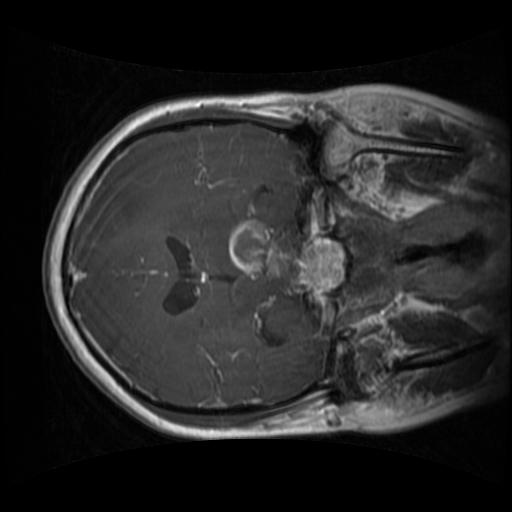glioma: (225, 214, 295, 284)
